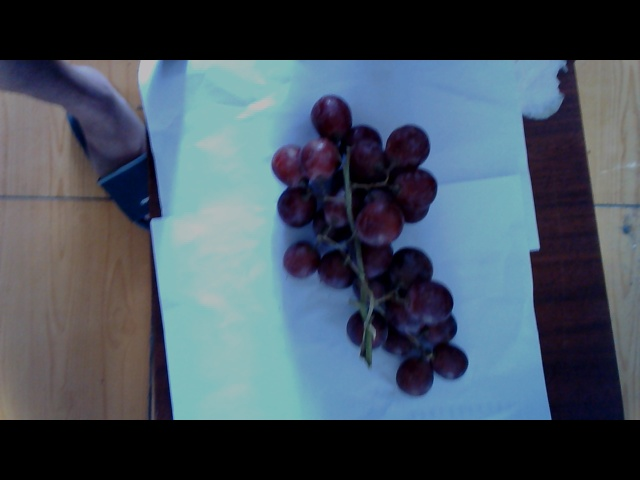grape: (275, 102, 470, 401)
